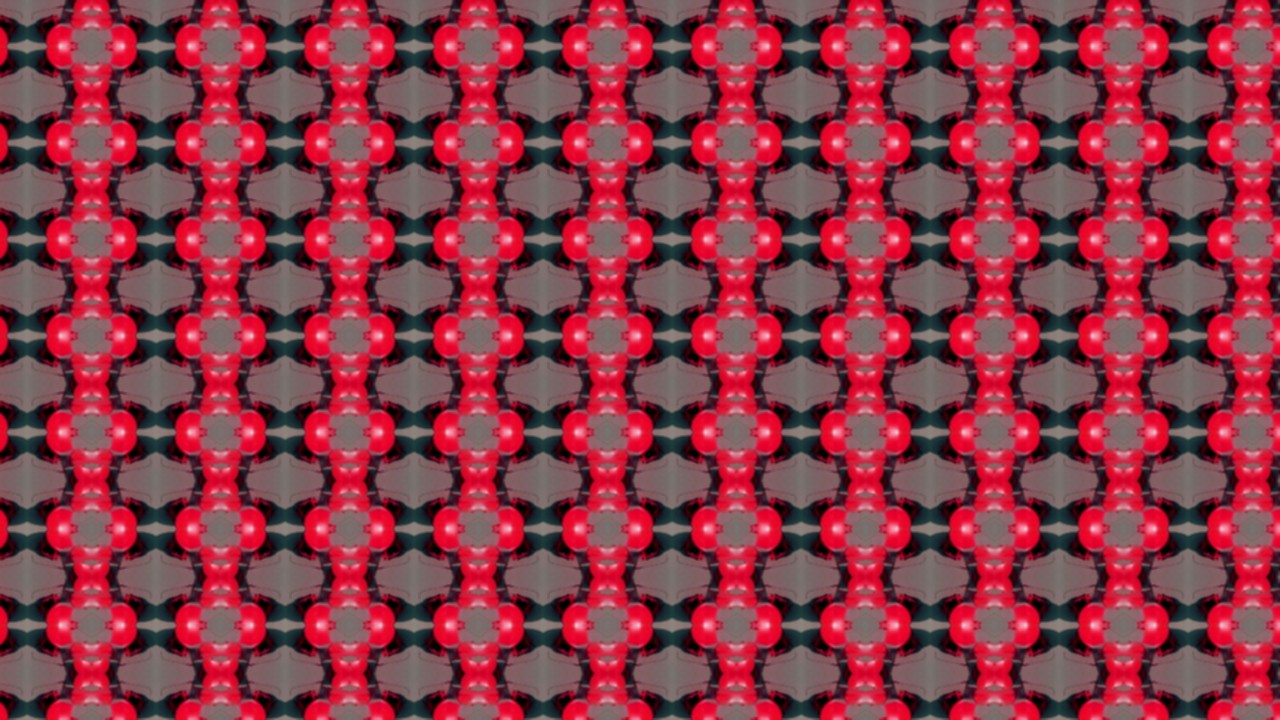chock: (33, 5, 90, 45), (89, 5, 146, 45), (162, 5, 219, 45), (219, 5, 276, 45), (348, 5, 405, 45), (421, 5, 478, 45), (478, 5, 535, 45), (551, 5, 608, 45), (680, 5, 737, 45), (737, 5, 794, 45), (810, 5, 867, 45), (866, 5, 923, 45), (939, 5, 996, 45), (996, 5, 1053, 45), (1069, 5, 1126, 45), (1125, 5, 1182, 45), (1198, 5, 1255, 45), (33, 45, 90, 85), (89, 45, 146, 85), (162, 45, 219, 85), (219, 45, 276, 85), (348, 45, 405, 85), (421, 45, 478, 85), (478, 45, 535, 85), (551, 45, 608, 85), (680, 45, 737, 85), (737, 45, 794, 85), (810, 45, 867, 85), (866, 45, 923, 85), (939, 45, 996, 85), (996, 45, 1053, 85), (1069, 45, 1126, 85), (1125, 45, 1182, 85), (1198, 45, 1255, 85), (33, 102, 90, 142), (89, 102, 146, 142), (162, 102, 219, 142), (219, 102, 276, 142), (348, 102, 405, 142), (421, 102, 478, 142), (478, 102, 535, 142), (551, 102, 608, 142), (680, 102, 737, 142), (737, 102, 794, 142), (810, 102, 867, 142), (866, 102, 923, 142), (939, 102, 996, 142), (996, 102, 1053, 142), (1069, 102, 1126, 142), (1125, 102, 1182, 142), (1198, 102, 1255, 142), (33, 142, 90, 182), (89, 142, 146, 182), (162, 142, 219, 182), (219, 142, 276, 182), (348, 142, 405, 182), (421, 142, 478, 182), (478, 142, 535, 182), (551, 142, 608, 182), (680, 142, 737, 182), (737, 142, 794, 182), (810, 142, 867, 182), (866, 142, 923, 182), (939, 142, 996, 182), (996, 142, 1053, 182), (1069, 142, 1126, 182), (1125, 142, 1182, 182), (1198, 142, 1255, 182), (33, 199, 90, 239), (89, 199, 146, 239), (162, 199, 219, 239), (219, 199, 276, 239), (348, 199, 405, 239), (421, 199, 478, 239), (478, 199, 535, 239), (551, 199, 608, 239), (680, 199, 737, 239), (737, 199, 794, 239), (810, 199, 867, 239), (866, 199, 923, 239), (939, 199, 996, 239), (996, 199, 1053, 239), (1069, 199, 1126, 239), (1125, 199, 1182, 239), (1198, 199, 1255, 239), (33, 239, 90, 279), (89, 239, 146, 279), (162, 239, 219, 279), (219, 239, 276, 279), (348, 239, 405, 279), (421, 239, 478, 279), (478, 239, 535, 279), (551, 239, 608, 279), (680, 239, 737, 279), (737, 239, 794, 279), (810, 239, 867, 279), (866, 239, 923, 279), (939, 239, 996, 279), (996, 239, 1053, 279), (1069, 239, 1126, 279), (1125, 239, 1182, 279), (1198, 239, 1255, 279), (33, 296, 90, 336), (89, 296, 146, 336), (162, 296, 219, 336), (219, 296, 276, 336), (348, 296, 405, 336), (421, 296, 478, 336), (478, 296, 535, 336), (551, 296, 608, 336), (680, 296, 737, 336), (737, 296, 794, 336), (810, 296, 867, 336), (866, 296, 923, 336), (939, 296, 996, 336), (996, 296, 1053, 336), (1069, 296, 1126, 336), (1125, 296, 1182, 336), (1198, 296, 1255, 336), (33, 336, 90, 376), (89, 336, 146, 376), (162, 336, 219, 376), (219, 336, 276, 376), (348, 336, 405, 376), (421, 336, 478, 376), (478, 336, 535, 376), (551, 336, 608, 376), (680, 336, 737, 376), (737, 336, 794, 376), (810, 336, 867, 376), (866, 336, 923, 376), (939, 336, 996, 376), (996, 336, 1053, 376), (1069, 336, 1126, 376), (1125, 336, 1182, 376), (1198, 336, 1255, 376), (33, 393, 90, 433), (89, 393, 146, 433), (162, 393, 219, 433), (219, 393, 276, 433), (348, 393, 405, 433), (421, 393, 478, 433), (478, 393, 535, 433), (551, 393, 608, 433), (680, 393, 737, 433), (737, 393, 794, 433), (810, 393, 867, 433), (866, 393, 923, 433), (939, 393, 996, 433), (996, 393, 1053, 433), (1069, 393, 1126, 433), (1125, 393, 1182, 433), (1198, 393, 1255, 433), (33, 433, 90, 473), (89, 433, 146, 473), (162, 433, 219, 473), (219, 433, 276, 473), (348, 433, 405, 473), (421, 433, 478, 473), (478, 433, 535, 473), (551, 433, 608, 473), (680, 433, 737, 473), (737, 433, 794, 473), (810, 433, 867, 473), (866, 433, 923, 473), (939, 433, 996, 473), (996, 433, 1053, 473), (1069, 433, 1126, 473), (1125, 433, 1182, 473), (1198, 433, 1255, 473), (33, 490, 90, 530), (89, 490, 146, 530), (162, 490, 219, 530), (219, 490, 276, 530), (348, 490, 405, 530), (421, 490, 478, 530), (478, 490, 535, 530), (551, 490, 608, 530), (680, 490, 737, 530), (737, 490, 794, 530), (810, 490, 867, 530), (866, 490, 923, 530), (939, 490, 996, 530), (996, 490, 1053, 530), (1069, 490, 1126, 530), (1125, 490, 1182, 530), (1198, 490, 1255, 530), (33, 530, 90, 570), (89, 530, 146, 570), (162, 530, 219, 570), (219, 530, 276, 570), (348, 530, 405, 570), (421, 530, 478, 570), (478, 530, 535, 570), (551, 530, 608, 570), (680, 530, 737, 570), (737, 530, 794, 570), (810, 530, 867, 570), (866, 530, 923, 570), (939, 530, 996, 570), (996, 530, 1053, 570), (1069, 530, 1126, 570), (1125, 530, 1182, 570), (1198, 530, 1255, 570), (33, 587, 90, 627), (89, 587, 146, 627), (162, 587, 219, 627), (219, 587, 276, 627), (348, 587, 405, 627), (421, 587, 478, 627), (478, 587, 535, 627), (551, 587, 608, 627), (680, 587, 737, 627), (737, 587, 794, 627), (810, 587, 867, 627), (866, 587, 923, 627), (939, 587, 996, 627), (996, 587, 1053, 627), (1069, 587, 1126, 627), (1125, 587, 1182, 627), (1198, 587, 1255, 627), (33, 627, 90, 667), (89, 627, 146, 667), (162, 627, 219, 667), (219, 627, 276, 667), (348, 627, 405, 667), (421, 627, 478, 667), (478, 627, 535, 667), (551, 627, 608, 667), (680, 627, 737, 667), (737, 627, 794, 667), (810, 627, 867, 667), (866, 627, 923, 667), (939, 627, 996, 667), (996, 627, 1053, 667), (1069, 627, 1126, 667), (1125, 627, 1182, 667), (1198, 627, 1255, 667), (292, 5, 348, 45), (608, 5, 664, 45), (292, 45, 348, 85), (608, 45, 664, 85), (292, 102, 348, 142), (608, 102, 664, 142), (292, 142, 348, 182), (608, 142, 664, 182), (292, 199, 348, 239), (608, 199, 664, 239), (292, 239, 348, 279), (608, 239, 664, 279), (292, 296, 348, 336), (608, 296, 664, 336), (292, 336, 348, 376), (608, 336, 664, 376), (292, 393, 348, 433), (608, 393, 664, 433), (292, 433, 348, 473), (608, 433, 664, 473), (292, 490, 348, 530), (608, 490, 664, 530), (292, 530, 348, 570), (608, 530, 664, 570), (292, 587, 348, 627), (608, 587, 664, 627), (292, 627, 348, 667), (608, 627, 664, 667), (33, 684, 90, 720), (89, 684, 146, 720), (162, 684, 219, 720), (219, 684, 276, 720), (348, 684, 405, 720), (421, 684, 478, 720), (478, 684, 535, 720), (551, 684, 608, 720), (680, 684, 737, 720), (737, 684, 794, 720), (810, 684, 867, 720), (866, 684, 923, 720), (939, 684, 996, 720), (996, 684, 1053, 720), (1069, 684, 1126, 720), (1125, 684, 1182, 720), (1198, 684, 1255, 720), (292, 684, 348, 720), (608, 684, 664, 720), (56, 56, 90, 93), (185, 56, 219, 93), (219, 56, 253, 93), (444, 56, 478, 93), (478, 56, 512, 93), (703, 56, 737, 93), (737, 56, 771, 93), (866, 56, 900, 93), (962, 56, 996, 93), (996, 56, 1030, 93), (1092, 56, 1126, 93), (1221, 56, 1255, 93), (56, 93, 90, 130), (185, 93, 219, 130), (219, 93, 253, 130), (444, 93, 478, 130), (478, 93, 512, 130), (703, 93, 737, 130), (737, 93, 771, 130), (866, 93, 900, 130), (962, 93, 996, 130), (996, 93, 1030, 130), (1092, 93, 1126, 130), (1221, 93, 1255, 130), (56, 153, 90, 190), (185, 153, 219, 190), (219, 153, 253, 190), (444, 153, 478, 190), (478, 153, 512, 190), (703, 153, 737, 190), (737, 153, 771, 190), (866, 153, 900, 190), (962, 153, 996, 190), (996, 153, 1030, 190), (1092, 153, 1126, 190), (1221, 153, 1255, 190), (56, 190, 90, 227), (185, 190, 219, 227), (219, 190, 253, 227), (444, 190, 478, 227), (478, 190, 512, 227), (703, 190, 737, 227), (737, 190, 771, 227), (866, 190, 900, 227), (962, 190, 996, 227), (996, 190, 1030, 227), (1092, 190, 1126, 227), (1221, 190, 1255, 227), (56, 250, 90, 287), (185, 250, 219, 287), (219, 250, 253, 287), (444, 250, 478, 287), (478, 250, 512, 287), (703, 250, 737, 287), (737, 250, 771, 287), (866, 250, 900, 287), (962, 250, 996, 287), (996, 250, 1030, 287), (1092, 250, 1126, 287), (1221, 250, 1255, 287), (56, 287, 90, 324), (185, 287, 219, 324), (219, 287, 253, 324), (444, 287, 478, 324), (478, 287, 512, 324), (703, 287, 737, 324), (737, 287, 771, 324), (866, 287, 900, 324), (962, 287, 996, 324), (996, 287, 1030, 324), (1092, 287, 1126, 324), (1221, 287, 1255, 324), (56, 347, 90, 384), (185, 347, 219, 384), (219, 347, 253, 384), (444, 347, 478, 384), (478, 347, 512, 384), (703, 347, 737, 384), (737, 347, 771, 384), (866, 347, 900, 384), (962, 347, 996, 384), (996, 347, 1030, 384), (1092, 347, 1126, 384), (1221, 347, 1255, 384), (56, 384, 90, 421), (185, 384, 219, 421), (219, 384, 253, 421), (444, 384, 478, 421), (478, 384, 512, 421), (703, 384, 737, 421), (737, 384, 771, 421), (866, 384, 900, 421), (962, 384, 996, 421), (996, 384, 1030, 421), (1092, 384, 1126, 421), (1221, 384, 1255, 421), (56, 444, 90, 481), (185, 444, 219, 481), (219, 444, 253, 481), (444, 444, 478, 481), (478, 444, 512, 481), (703, 444, 737, 481), (737, 444, 771, 481), (866, 444, 900, 481), (962, 444, 996, 481), (996, 444, 1030, 481), (1092, 444, 1126, 481), (1221, 444, 1255, 481), (56, 481, 90, 518), (185, 481, 219, 518), (219, 481, 253, 518), (444, 481, 478, 518), (478, 481, 512, 518), (703, 481, 737, 518), (737, 481, 771, 518), (866, 481, 900, 518), (962, 481, 996, 518), (996, 481, 1030, 518), (1092, 481, 1126, 518), (1221, 481, 1255, 518), (56, 541, 90, 578), (185, 541, 219, 578), (219, 541, 253, 578), (444, 541, 478, 578), (478, 541, 512, 578), (703, 541, 737, 578), (737, 541, 771, 578), (866, 541, 900, 578), (962, 541, 996, 578), (996, 541, 1030, 578), (1092, 541, 1126, 578), (1221, 541, 1255, 578), (56, 578, 90, 615), (185, 578, 219, 615), (219, 578, 253, 615), (444, 578, 478, 615), (478, 578, 512, 615), (703, 578, 737, 615), (737, 578, 771, 615), (866, 578, 900, 615), (962, 578, 996, 615), (996, 578, 1030, 615), (1092, 578, 1126, 615), (1221, 578, 1255, 615), (56, 638, 90, 675), (185, 638, 219, 675), (219, 638, 253, 675), (444, 638, 478, 675), (478, 638, 512, 675), (703, 638, 737, 675), (737, 638, 771, 675), (866, 638, 900, 675), (962, 638, 996, 675), (996, 638, 1030, 675), (1092, 638, 1126, 675), (1221, 638, 1255, 675), (56, 675, 90, 712), (185, 675, 219, 712), (219, 675, 253, 712), (444, 675, 478, 712), (478, 675, 512, 712), (703, 675, 737, 712), (737, 675, 771, 712), (866, 675, 900, 712), (962, 675, 996, 712), (996, 675, 1030, 712), (1092, 675, 1126, 712), (1221, 675, 1255, 712), (90, 56, 123, 93), (315, 56, 348, 93), (349, 56, 382, 93), (574, 56, 607, 93), (608, 56, 641, 93), (833, 56, 866, 93), (1126, 56, 1159, 93), (90, 93, 123, 130), (315, 93, 348, 130), (349, 93, 382, 130), (574, 93, 607, 130), (608, 93, 641, 130), (833, 93, 866, 130), (1126, 93, 1159, 130), (90, 153, 123, 190), (315, 153, 348, 190), (349, 153, 382, 190), (574, 153, 607, 190), (608, 153, 641, 190), (833, 153, 866, 190), (1126, 153, 1159, 190), (90, 190, 123, 227), (315, 190, 348, 227), (349, 190, 382, 227), (574, 190, 607, 227), (608, 190, 641, 227), (833, 190, 866, 227), (1126, 190, 1159, 227), (90, 250, 123, 287), (315, 250, 348, 287), (349, 250, 382, 287), (574, 250, 607, 287), (608, 250, 641, 287), (833, 250, 866, 287), (1126, 250, 1159, 287), (90, 287, 123, 324), (315, 287, 348, 324), (349, 287, 382, 324), (574, 287, 607, 324), (608, 287, 641, 324), (833, 287, 866, 324), (1126, 287, 1159, 324), (90, 347, 123, 384), (315, 347, 348, 384), (349, 347, 382, 384), (574, 347, 607, 384), (608, 347, 641, 384), (833, 347, 866, 384), (1126, 347, 1159, 384), (90, 384, 123, 421), (315, 384, 348, 421), (349, 384, 382, 421), (574, 384, 607, 421), (608, 384, 641, 421), (833, 384, 866, 421), (1126, 384, 1159, 421), (90, 444, 123, 481), (315, 444, 348, 481), (349, 444, 382, 481), (574, 444, 607, 481), (608, 444, 641, 481), (833, 444, 866, 481), (1126, 444, 1159, 481), (90, 481, 123, 518), (315, 481, 348, 518), (349, 481, 382, 518), (574, 481, 607, 518), (608, 481, 641, 518), (833, 481, 866, 518), (1126, 481, 1159, 518), (90, 541, 123, 578), (315, 541, 348, 578), (349, 541, 382, 578), (574, 541, 607, 578), (608, 541, 641, 578), (833, 541, 866, 578), (1126, 541, 1159, 578), (90, 578, 123, 615), (315, 578, 348, 615), (349, 578, 382, 615), (574, 578, 607, 615), (608, 578, 641, 615), (833, 578, 866, 615), (1126, 578, 1159, 615), (90, 638, 123, 675), (315, 638, 348, 675), (349, 638, 382, 675), (574, 638, 607, 675), (608, 638, 641, 675), (833, 638, 866, 675), (1126, 638, 1159, 675), (90, 675, 123, 712), (315, 675, 348, 712), (349, 675, 382, 712), (574, 675, 607, 712), (608, 675, 641, 712), (833, 675, 866, 712), (1126, 675, 1159, 712), (56, 0, 90, 33), (185, 0, 219, 33), (219, 0, 253, 33), (444, 0, 478, 33), (478, 0, 512, 33), (703, 0, 737, 33), (737, 0, 771, 33), (866, 0, 900, 33), (962, 0, 996, 33), (996, 0, 1030, 33), (1092, 0, 1126, 33), (1221, 0, 1255, 33), (90, 0, 123, 33), (315, 0, 348, 33), (349, 0, 382, 33), (574, 0, 607, 33), (608, 0, 641, 33), (833, 0, 866, 33), (1126, 0, 1159, 33), (1255, 5, 1280, 45), (1255, 45, 1280, 85), (1255, 102, 1280, 142), (1255, 142, 1280, 182), (1255, 199, 1280, 239), (1255, 239, 1280, 279), (1255, 296, 1280, 336), (1255, 336, 1280, 376), (1255, 393, 1280, 433), (1255, 433, 1280, 473), (1255, 490, 1280, 530), (1255, 530, 1280, 570), (1255, 587, 1280, 627), (1255, 627, 1280, 667), (1255, 56, 1280, 93), (1255, 93, 1280, 130), (1255, 153, 1280, 190), (1255, 190, 1280, 227), (1255, 250, 1280, 287), (1255, 287, 1280, 324), (1255, 347, 1280, 384), (1255, 384, 1280, 421), (1255, 444, 1280, 481), (1255, 481, 1280, 518), (1255, 541, 1280, 578), (1255, 578, 1280, 615), (1255, 638, 1280, 675), (1255, 675, 1280, 712), (1255, 684, 1280, 720), (1255, 0, 1280, 33), (0, 5, 17, 45), (0, 45, 17, 85), (0, 102, 17, 142), (0, 142, 17, 182), (0, 199, 17, 239), (0, 239, 17, 279), (0, 296, 17, 336), (0, 336, 17, 376), (0, 393, 17, 433), (0, 433, 17, 473), (0, 490, 17, 530), (0, 530, 17, 570), (0, 587, 17, 627), (0, 627, 17, 667), (0, 684, 17, 720), (62, 93, 90, 112), (89, 93, 117, 112), (348, 93, 376, 112), (580, 93, 608, 112), (839, 93, 867, 112), (866, 93, 894, 112), (1098, 93, 1126, 112), (1125, 93, 1153, 112), (62, 190, 90, 209), (89, 190, 117, 209), (348, 190, 376, 209), (580, 190, 608, 209), (839, 190, 867, 209), (866, 190, 894, 209), (1098, 190, 1126, 209), (1125, 190, 1153, 209), (62, 287, 90, 306), (89, 287, 117, 306), (348, 287, 376, 306), (580, 287, 608, 306), (839, 287, 867, 306), (866, 287, 894, 306), (1098, 287, 1126, 306), (1125, 287, 1153, 306), (62, 384, 90, 403), (89, 384, 117, 403), (348, 384, 376, 403), (580, 384, 608, 403), (839, 384, 867, 403), (866, 384, 894, 403), (1098, 384, 1126, 403), (1125, 384, 1153, 403), (62, 481, 90, 500), (89, 481, 117, 500), (348, 481, 376, 500), (580, 481, 608, 500), (839, 481, 867, 500), (866, 481, 894, 500), (1098, 481, 1126, 500), (1125, 481, 1153, 500), (62, 578, 90, 597), (89, 578, 117, 597), (348, 578, 376, 597), (580, 578, 608, 597), (839, 578, 867, 597), (866, 578, 894, 597), (1098, 578, 1126, 597), (1125, 578, 1153, 597), (62, 675, 90, 694), (89, 675, 117, 694), (348, 675, 376, 694), (580, 675, 608, 694), (839, 675, 867, 694), (866, 675, 894, 694), (1098, 675, 1126, 694), (1125, 675, 1153, 694), (192, 93, 219, 112), (219, 93, 246, 112), (321, 93, 348, 112), (451, 93, 478, 112), (478, 93, 505, 112), (608, 93, 635, 112), (710, 93, 737, 112), (737, 93, 764, 112), (969, 93, 996, 112), (996, 93, 1023, 112), (1228, 93, 1255, 112), (192, 190, 219, 209), (219, 190, 246, 209), (321, 190, 348, 209), (451, 190, 478, 209), (478, 190, 505, 209), (608, 190, 635, 209), (710, 190, 737, 209), (737, 190, 764, 209), (969, 190, 996, 209), (996, 190, 1023, 209), (1228, 190, 1255, 209), (192, 287, 219, 306), (219, 287, 246, 306), (321, 287, 348, 306), (451, 287, 478, 306), (478, 287, 505, 306), (608, 287, 635, 306), (710, 287, 737, 306), (737, 287, 764, 306), (969, 287, 996, 306), (996, 287, 1023, 306), (1228, 287, 1255, 306), (192, 384, 219, 403), (219, 384, 246, 403), (321, 384, 348, 403), (451, 384, 478, 403), (478, 384, 505, 403), (608, 384, 635, 403), (710, 384, 737, 403), (737, 384, 764, 403), (969, 384, 996, 403), (996, 384, 1023, 403), (1228, 384, 1255, 403), (192, 481, 219, 500), (219, 481, 246, 500), (321, 481, 348, 500), (451, 481, 478, 500), (478, 481, 505, 500), (608, 481, 635, 500), (710, 481, 737, 500), (737, 481, 764, 500), (969, 481, 996, 500), (996, 481, 1023, 500), (1228, 481, 1255, 500), (192, 578, 219, 597), (219, 578, 246, 597), (321, 578, 348, 597), (451, 578, 478, 597), (478, 578, 505, 597), (608, 578, 635, 597), (710, 578, 737, 597), (737, 578, 764, 597), (969, 578, 996, 597), (996, 578, 1023, 597), (1228, 578, 1255, 597), (192, 675, 219, 694), (219, 675, 246, 694), (321, 675, 348, 694), (451, 675, 478, 694), (478, 675, 505, 694), (608, 675, 635, 694), (710, 675, 737, 694), (737, 675, 764, 694), (969, 675, 996, 694), (996, 675, 1023, 694), (1228, 675, 1255, 694), (62, 75, 90, 93), (89, 75, 117, 93), (348, 75, 376, 93), (580, 75, 608, 93), (839, 75, 867, 93), (866, 75, 894, 93), (1098, 75, 1126, 93), (1125, 75, 1153, 93), (62, 172, 90, 190), (89, 172, 117, 190), (348, 172, 376, 190), (580, 172, 608, 190), (839, 172, 867, 190), (866, 172, 894, 190), (1098, 172, 1126, 190), (1125, 172, 1153, 190), (62, 269, 90, 287), (89, 269, 117, 287), (348, 269, 376, 287), (580, 269, 608, 287), (839, 269, 867, 287), (866, 269, 894, 287), (1098, 269, 1126, 287), (1125, 269, 1153, 287), (62, 366, 90, 384), (89, 366, 117, 384), (348, 366, 376, 384), (580, 366, 608, 384), (839, 366, 867, 384), (866, 366, 894, 384), (1098, 366, 1126, 384), (1125, 366, 1153, 384), (62, 463, 90, 481), (89, 463, 117, 481), (348, 463, 376, 481), (580, 463, 608, 481), (839, 463, 867, 481), (866, 463, 894, 481), (1098, 463, 1126, 481), (1125, 463, 1153, 481), (62, 560, 90, 578), (89, 560, 117, 578), (348, 560, 376, 578), (580, 560, 608, 578), (839, 560, 867, 578), (866, 560, 894, 578), (1098, 560, 1126, 578), (1125, 560, 1153, 578), (62, 657, 90, 675), (89, 657, 117, 675), (348, 657, 376, 675), (580, 657, 608, 675), (839, 657, 867, 675), (866, 657, 894, 675), (1098, 657, 1126, 675), (1125, 657, 1153, 675), (192, 75, 219, 93), (219, 75, 246, 93), (321, 75, 348, 93), (451, 75, 478, 93), (478, 75, 505, 93), (608, 75, 635, 93), (710, 75, 737, 93), (737, 75, 764, 93), (969, 75, 996, 93), (996, 75, 1023, 93), (1228, 75, 1255, 93), (192, 172, 219, 190), (219, 172, 246, 190), (321, 172, 348, 190), (451, 172, 478, 190), (478, 172, 505, 190), (608, 172, 635, 190), (710, 172, 737, 190), (737, 172, 764, 190), (969, 172, 996, 190), (996, 172, 1023, 190), (1228, 172, 1255, 190), (192, 269, 219, 287), (219, 269, 246, 287), (321, 269, 348, 287), (451, 269, 478, 287), (478, 269, 505, 287), (608, 269, 635, 287), (710, 269, 737, 287), (737, 269, 764, 287), (969, 269, 996, 287), (996, 269, 1023, 287), (1228, 269, 1255, 287), (192, 366, 219, 384), (219, 366, 246, 384), (321, 366, 348, 384), (451, 366, 478, 384), (478, 366, 505, 384), (608, 366, 635, 384), (710, 366, 737, 384), (737, 366, 764, 384), (969, 366, 996, 384), (996, 366, 1023, 384), (1228, 366, 1255, 384), (192, 463, 219, 481), (219, 463, 246, 481), (321, 463, 348, 481), (451, 463, 478, 481), (478, 463, 505, 481), (608, 463, 635, 481), (710, 463, 737, 481), (737, 463, 764, 481), (969, 463, 996, 481), (996, 463, 1023, 481), (1228, 463, 1255, 481), (192, 560, 219, 578), (219, 560, 246, 578), (321, 560, 348, 578), (451, 560, 478, 578), (478, 560, 505, 578), (608, 560, 635, 578), (710, 560, 737, 578), (737, 560, 764, 578), (969, 560, 996, 578), (996, 560, 1023, 578), (1228, 560, 1255, 578), (192, 657, 219, 675), (219, 657, 246, 675), (321, 657, 348, 675), (451, 657, 478, 675), (478, 657, 505, 675), (608, 657, 635, 675), (710, 657, 737, 675), (737, 657, 764, 675), (969, 657, 996, 675), (996, 657, 1023, 675), (1228, 657, 1255, 675), (1255, 93, 1280, 112), (1255, 190, 1280, 209), (1255, 287, 1280, 306), (1255, 384, 1280, 403), (1255, 481, 1280, 500), (1255, 578, 1280, 597), (1255, 675, 1280, 694), (1255, 75, 1280, 93), (1255, 172, 1280, 190), (1255, 269, 1280, 287), (1255, 366, 1280, 384), (1255, 463, 1280, 481), (1255, 560, 1280, 578), (1255, 657, 1280, 675), (62, 0, 90, 15), (89, 0, 117, 15), (348, 0, 376, 15), (580, 0, 608, 15), (839, 0, 867, 15), (866, 0, 894, 15), (1098, 0, 1126, 15), (1125, 0, 1153, 15), (192, 0, 219, 15), (219, 0, 246, 15), (321, 0, 348, 15), (451, 0, 478, 15), (478, 0, 505, 15), (608, 0, 635, 15), (710, 0, 737, 15), (737, 0, 764, 15), (969, 0, 996, 15), (996, 0, 1023, 15), (1228, 0, 1255, 15), (1255, 0, 1280, 15)
